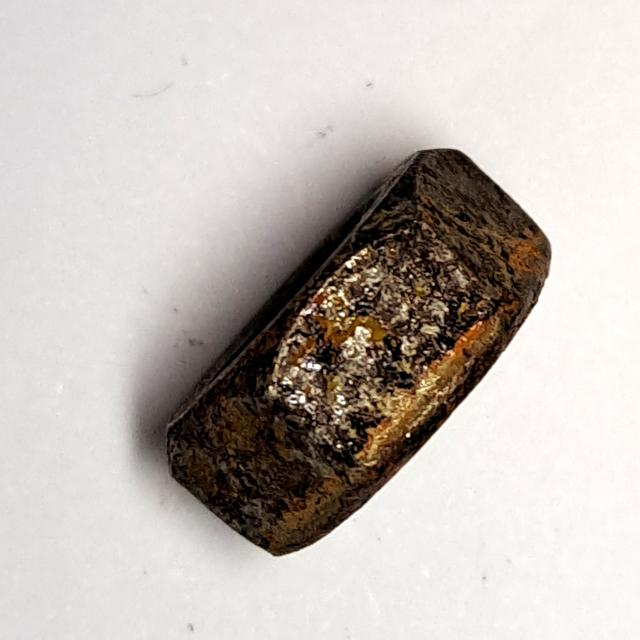Side_Rust: (153, 132, 561, 572)
